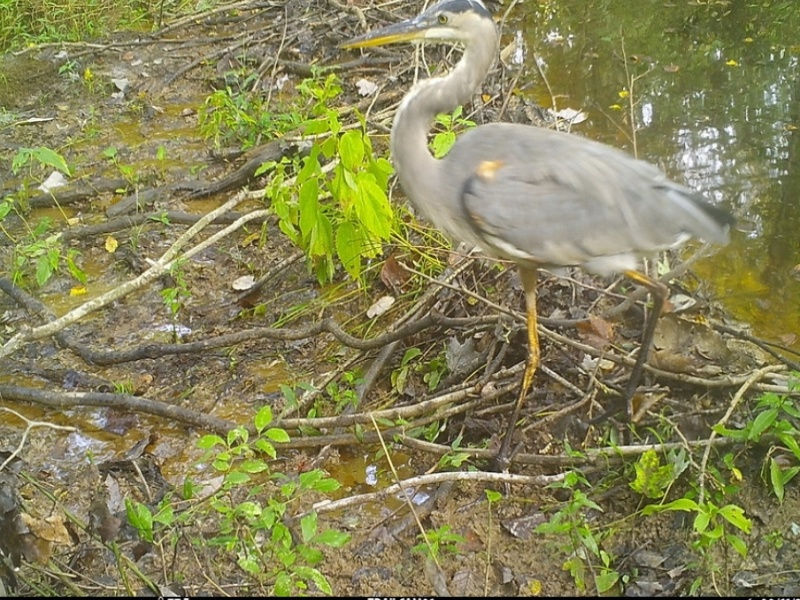heron: (337, 1, 760, 479)
